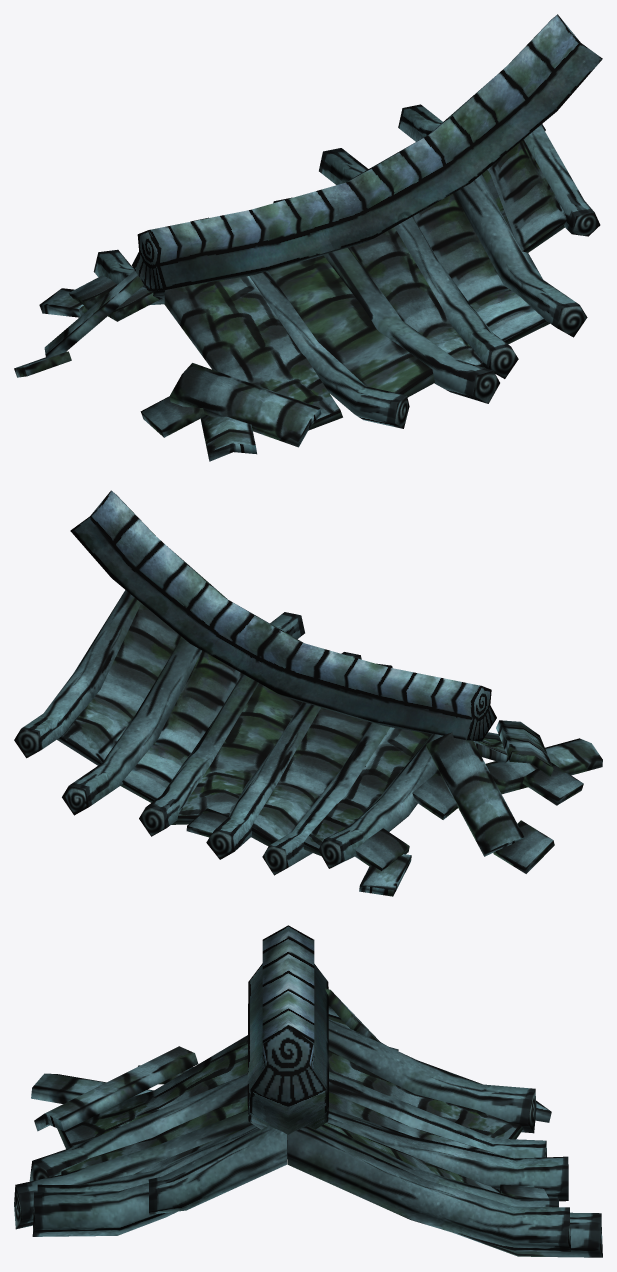
File: PRP_BrokenRoofLarge.FBX
The picture shows the model from 3 angles, top to bottom: view 1: azimuth 30°, elevation 25°; view 2: azimuth 150°, elevation 25°; view 3: azimuth 270°, elevation 25°; orthographic projection. The views are drawn at different scales.
Visible parts, largest first — view 1: PRP_BrokenRoofLarge; view 2: PRP_BrokenRoofLarge; view 3: PRP_BrokenRoofLarge.
Boxes of the visible parts, x1,y1,x2,y2 form: PRP_BrokenRoofLarge: (14, 14, 602, 461); PRP_BrokenRoofLarge: (14, 490, 602, 896); PRP_BrokenRoofLarge: (14, 925, 602, 1257).
Size of the model in its own units: 1782 by 857 by 1391.
